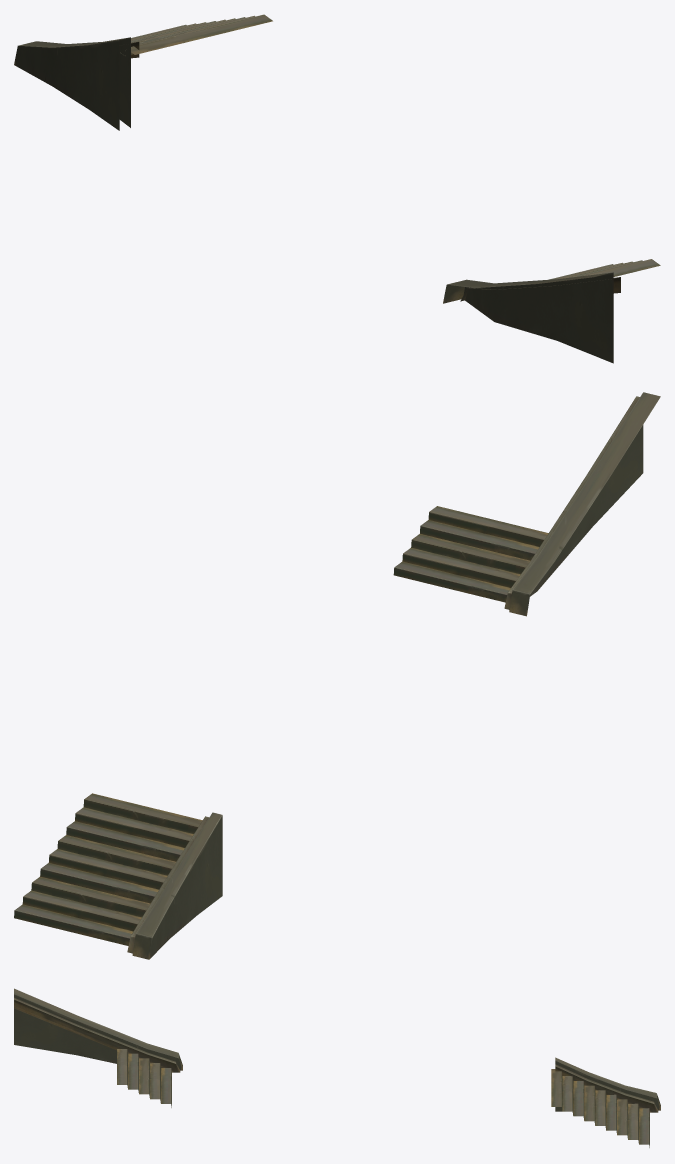
The model's file is Yx_tibu01.FBX.
3 renders of one model, top to bottom at view 1: azimuth 30°, elevation 25°; view 2: azimuth 150°, elevation 25°; view 3: azimuth 270°, elevation 25°, orthographic. The views are drawn at different scales.
Visible parts, largest first — view 1: Yx_tibu01_003, Yx_tibu01_001, Yx_tibu01_002; view 2: Yx_tibu01_001, Yx_tibu01_002, Yx_tibu01_003; view 3: Yx_tibu01_003, Yx_tibu01_001, Yx_tibu01_002.
Boxes of the visible parts, <box> form: Yx_tibu01_003: <box>443,272,620,363</box>; Yx_tibu01_001: <box>14,14,272,130</box>; Yx_tibu01_002: <box>549,259,660,279</box>; Yx_tibu01_001: <box>14,793,222,959</box>; Yx_tibu01_002: <box>393,506,548,602</box>; Yx_tibu01_003: <box>504,392,660,616</box>; Yx_tibu01_003: <box>14,988,182,1072</box>; Yx_tibu01_001: <box>551,1057,660,1147</box>; Yx_tibu01_002: <box>117,1049,171,1107</box>.
Size of the model in its own units: 769 by 953 by 4756.
